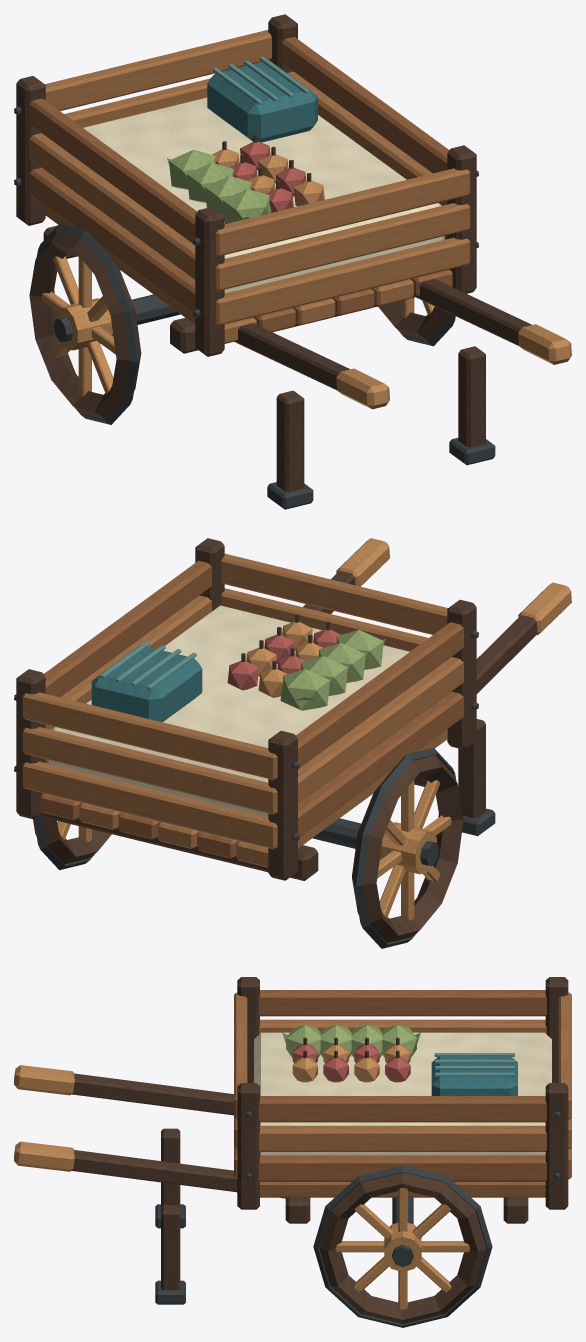
Rendered from market_handcart.glb.
The picture shows the model from 3 angles, top to bottom: view 1: azimuth 30°, elevation 25°; view 2: azimuth 150°, elevation 25°; view 3: azimuth 270°, elevation 25°; orthographic projection. The views are drawn at different scales.
Parts seen in each view (by area): view 1: market_handcart; view 2: market_handcart; view 3: market_handcart.
Boxes of the visible parts, left/top/right/bottom form: market_handcart: left=14, top=14, right=571, bottom=509; market_handcart: left=14, top=538, right=571, bottom=948; market_handcart: left=14, top=977, right=571, bottom=1327.
Bounding box in the file's own units: 1.81 × 1.22 × 2.71.
1 material, 1 textured.
